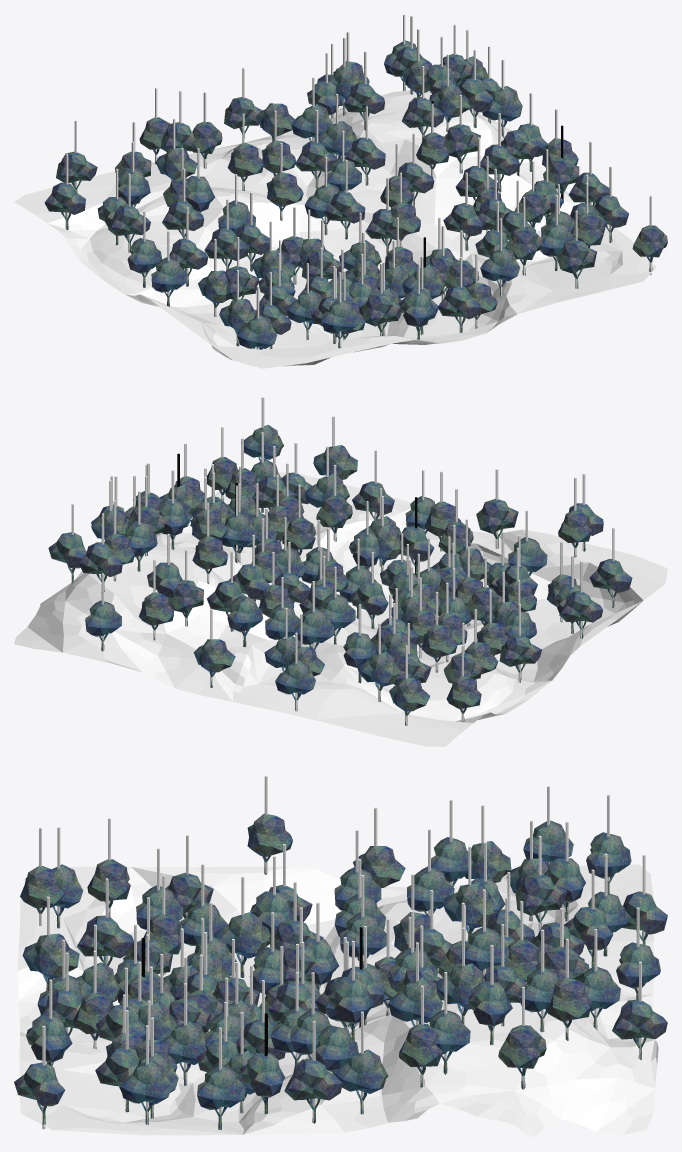
Rendered from environment.fbx.
3 views of the same model, one above another, from view 1: azimuth 30°, elevation 25°; view 2: azimuth 150°, elevation 25°; view 3: azimuth 270°, elevation 25° (orthographic). The views are drawn at different scales.
Parts seen in each view (by area): view 1: environment:proxy, tree-white.028, tree-white.029, tree-white.025, tree-pink.003, tree-blue.025, tree-blue.013, tree-blue.011, tree-pink.021, tree-white.010, tree-white.008, tree-pink.031 (+73 smaller); view 2: environment:proxy, tree-white.038, tree-white.020, tree-blue.030, tree-blue.023, tree-white.011, tree-blue.011, tree-blue.012, tree-pink.027, tree-blue.031, tree-pink.044, tree-blue.027 (+62 smaller); view 3: environment:proxy, tree-white.036, tree-white.003, tree-blue.038, tree-white.020, tree-white.026, tree-pink.041, tree-pink.033, tree-blue.031, tree-white.039, tree-white.033, tree-white.040 (+76 smaller).
Boxes of the visible parts, bbox=[...] form: environment:proxy: bbox=[14, 14, 656, 368]; tree-white.028: bbox=[438, 285, 480, 332]; tree-white.029: bbox=[556, 239, 596, 288]; tree-white.025: bbox=[361, 292, 401, 335]; tree-pink.003: bbox=[480, 247, 520, 296]; tree-blue.025: bbox=[44, 182, 85, 229]; tree-blue.013: bbox=[321, 299, 359, 348]; tree-blue.011: bbox=[151, 257, 187, 306]; tree-pink.021: bbox=[108, 205, 150, 252]; tree-white.010: bbox=[204, 227, 247, 268]; tree-white.008: bbox=[266, 172, 303, 220]; tree-pink.031: bbox=[324, 191, 365, 239]; environment:proxy: bbox=[14, 397, 667, 746]; tree-white.038: bbox=[78, 542, 122, 592]; tree-white.020: bbox=[476, 498, 518, 548]; tree-blue.030: bbox=[275, 660, 315, 710]; tree-blue.023: bbox=[359, 651, 399, 701]; tree-white.011: bbox=[294, 608, 334, 648]; tree-blue.011: bbox=[559, 591, 602, 638]; tree-blue.012: bbox=[499, 634, 541, 682]; tree-pink.027: bbox=[589, 559, 632, 607]; tree-blue.031: bbox=[85, 600, 121, 651]; tree-pink.044: bbox=[227, 595, 263, 646]; tree-blue.027: bbox=[193, 639, 235, 687]; environment:proxy: bbox=[17, 775, 658, 1137]; tree-white.036: bbox=[284, 1058, 342, 1123]; tree-white.003: bbox=[214, 912, 270, 977]; tree-blue.038: bbox=[120, 1060, 171, 1124]; tree-white.020: bbox=[22, 933, 79, 990]; tree-white.026: bbox=[76, 915, 133, 966]; tree-pink.041: bbox=[334, 1049, 388, 1114]; tree-pink.033: bbox=[197, 1065, 245, 1129]; tree-blue.031: bbox=[612, 999, 667, 1059]; tree-white.039: bbox=[498, 1025, 546, 1089]; tree-white.033: bbox=[388, 976, 442, 1026]; tree-white.040: bbox=[328, 976, 374, 1040].
Bounding box in the file's own units: 11816 × 4373 × 11595.
3 materials, 3 textured.
